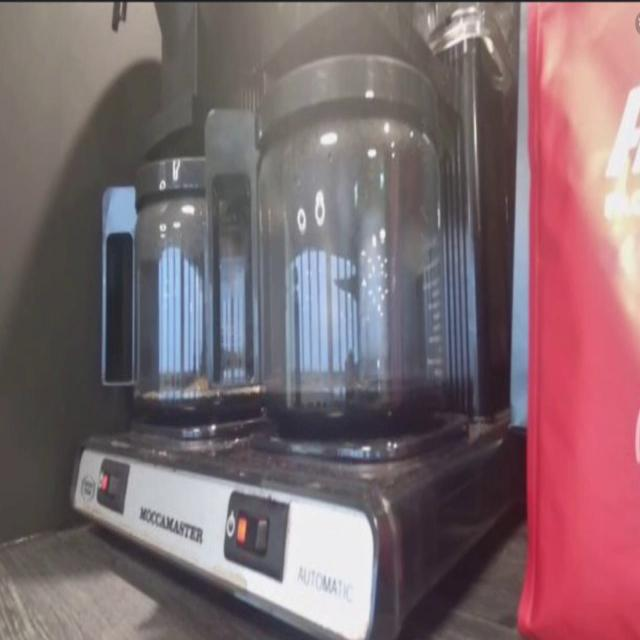nocoffee: (248, 74, 461, 431), (127, 146, 268, 424)
